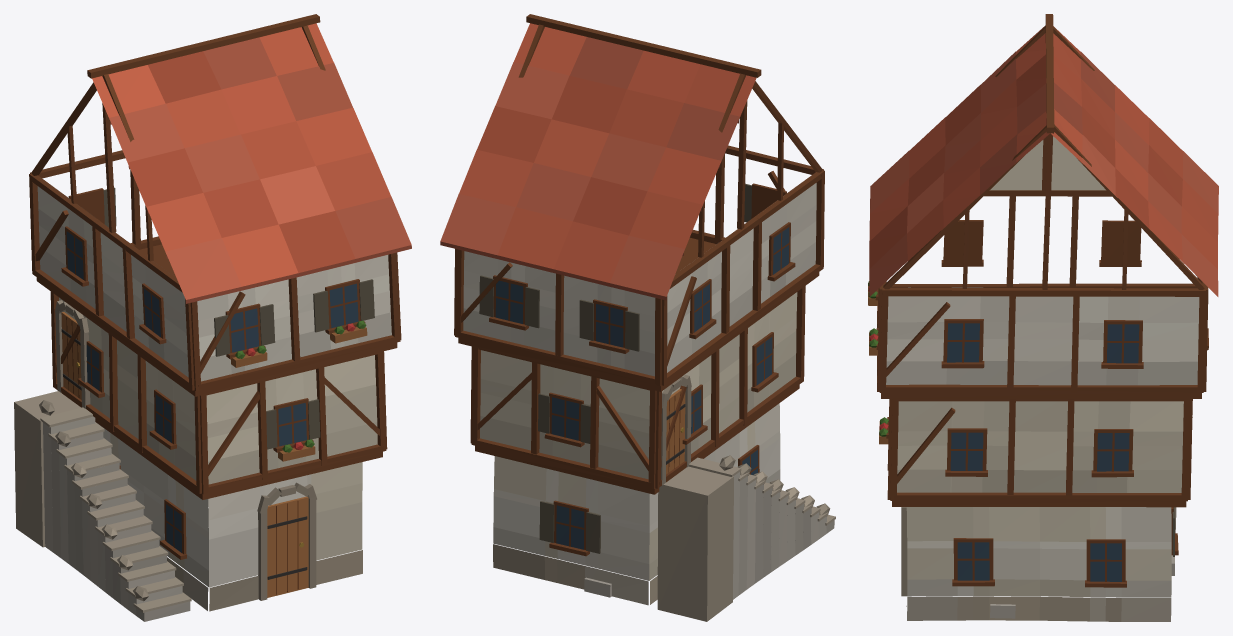
The model's file is townhouse-3.glb.
3 views of the same model, side by side, from view 1: azimuth 30°, elevation 25°; view 2: azimuth 150°, elevation 25°; view 3: azimuth 270°, elevation 25° (orthographic).
Visible parts, largest first — view 1: buildings/townhouse-3; view 2: buildings/townhouse-3; view 3: buildings/townhouse-3.
Part boxes in pixels (left/top/right/bottom): buildings/townhouse-3: left=14, top=14, right=411, bottom=621; buildings/townhouse-3: left=440, top=14, right=835, bottom=621; buildings/townhouse-3: left=868, top=14, right=1218, bottom=621.
Size of the model in its own units: 5.46 by 10.59 by 6.65.
